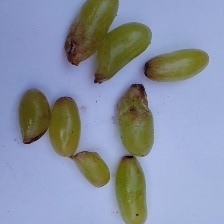grapes: (27, 28, 210, 224)
